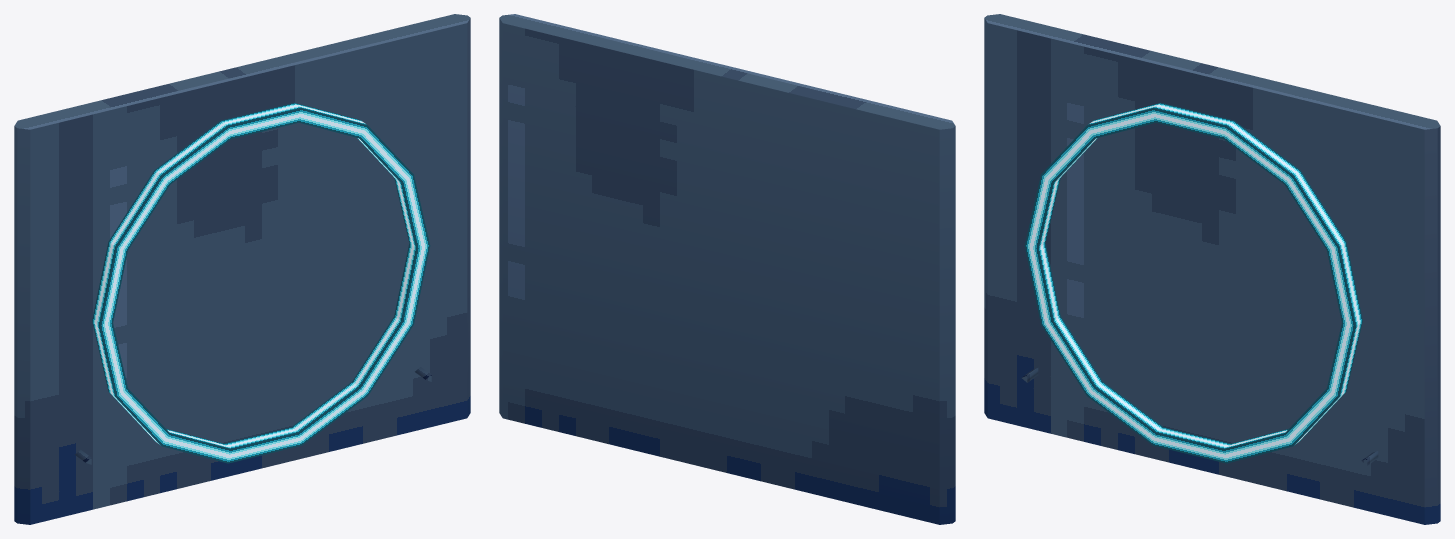
Rendered from cysign.tube.glb.
3 views of the same model, side by side, from view 1: azimuth 30°, elevation 25°; view 2: azimuth 150°, elevation 25°; view 3: azimuth 330°, elevation 25° (orthographic).
Visible parts, largest first — view 1: kit_plate, kit_tube; view 2: kit_plate; view 3: kit_plate, kit_tube.
Part boxes in pixels (box(x1,y1,x2,y2)): kit_plate: box(14, 14, 470, 524); kit_tube: box(75, 102, 431, 464); kit_plate: box(499, 14, 955, 524); kit_plate: box(984, 14, 1440, 524); kit_tube: box(1021, 102, 1378, 465).
Size of the model in its own units: 1.68 by 1.4 by 0.1847.
3 materials, 3 textured.
